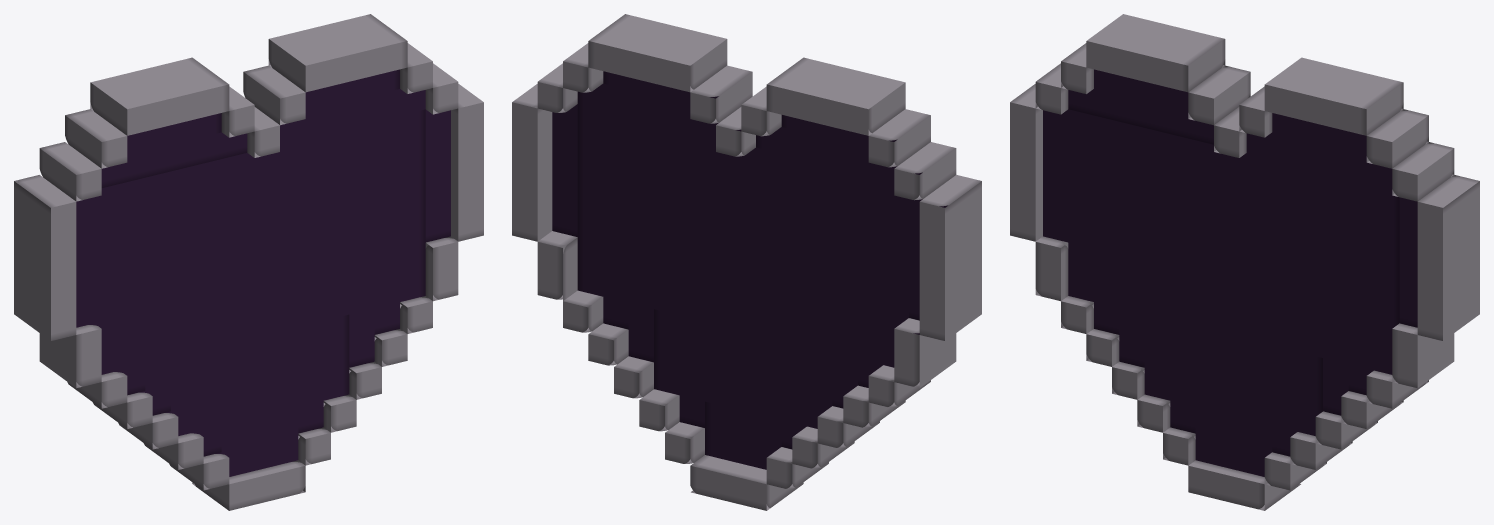
The model's file is okno.dae.
The picture shows the model from 3 angles, left to right: view 1: azimuth 30°, elevation 25°; view 2: azimuth 150°, elevation 25°; view 3: azimuth 330°, elevation 25°; orthographic projection.
Parts seen in each view (by area): view 1: Content; view 2: Content; view 3: Content.
Part boxes in pixels (x1=…): Content: x1=14, y1=14, x2=483, y2=510; Content: x1=512, y1=14, x2=981, y2=510; Content: x1=1010, y1=14, x2=1479, y2=510.
Bounding box in the file's own units: 34 × 32 × 5.
1 material, 1 textured.
